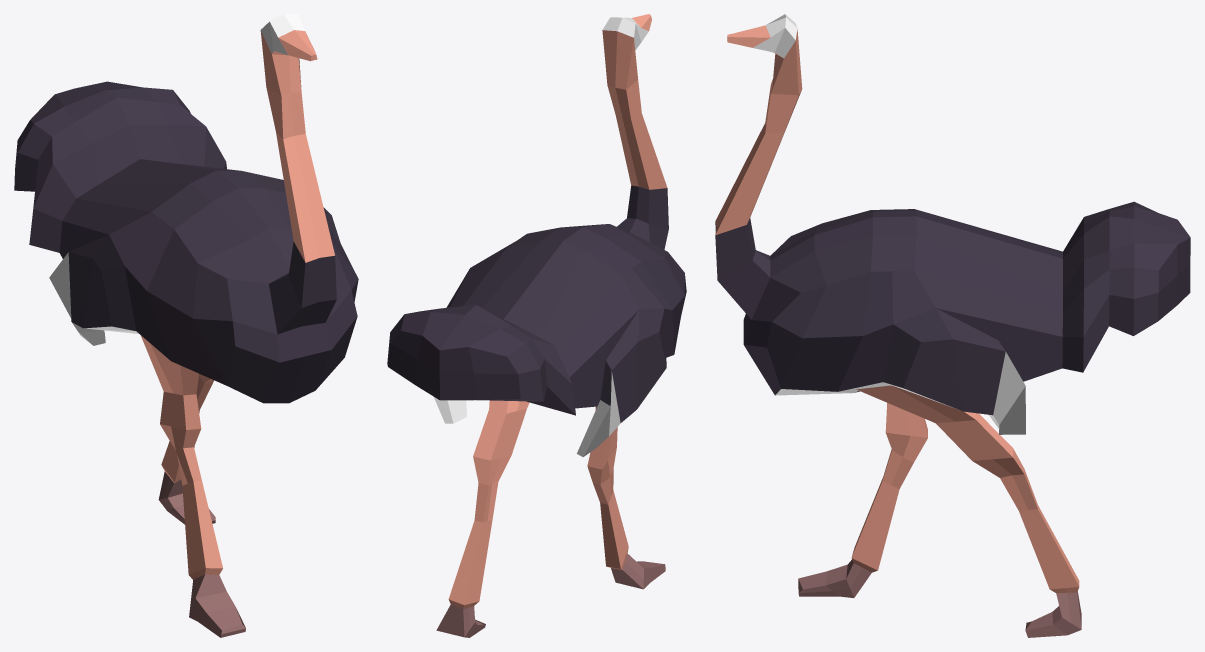
The model's file is Strauß1.fbx.
The picture shows the model from 3 angles, left to right: view 1: azimuth 30°, elevation 25°; view 2: azimuth 150°, elevation 25°; view 3: azimuth 270°, elevation 25°; orthographic projection. The views are drawn at different scales.
Parts seen in each view (by area): view 1: Strauß; view 2: Strauß; view 3: Strauß.
Part boxes in pixels (x1,y1,x2,y2): Strauß: (14, 14, 358, 637); Strauß: (387, 14, 686, 637); Strauß: (715, 14, 1190, 637).
Size of the model in its own units: 1.11 by 2.9 by 2.1.
